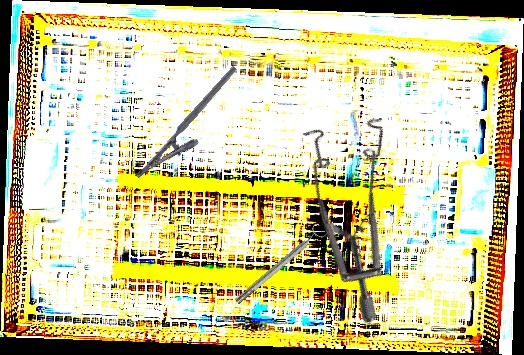Fixation Ring: (230, 221, 329, 309)
Needle Holder: (133, 65, 254, 193)
Speculum: (255, 91, 474, 327)
